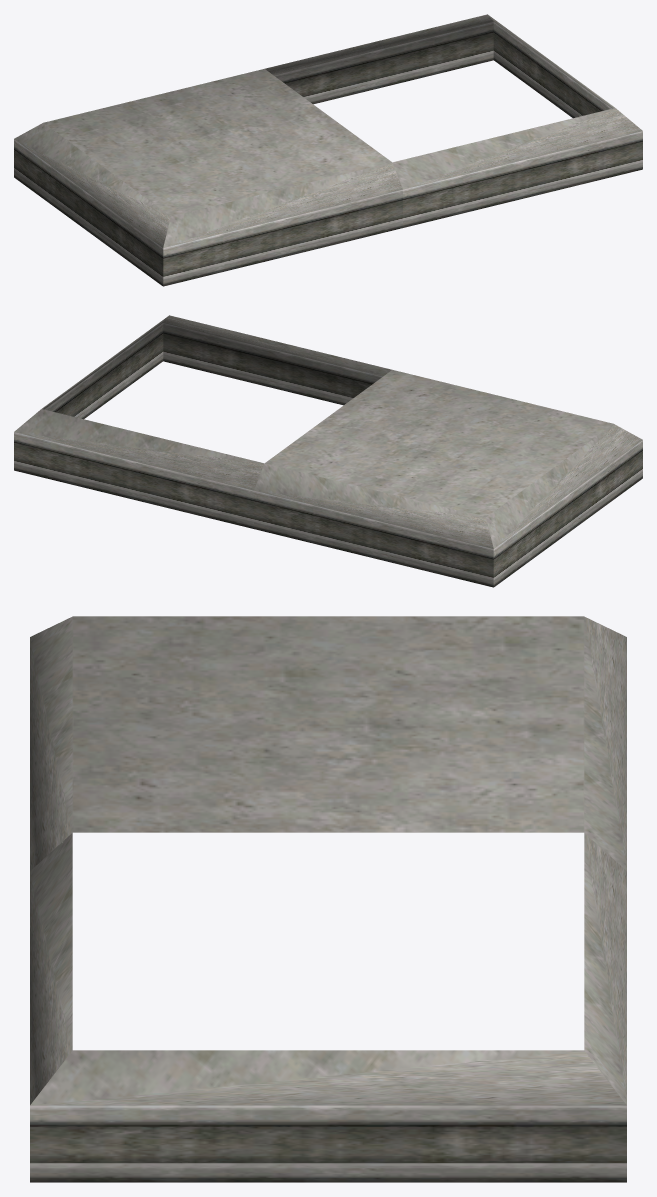
The model's file is DWARF_PALACE_ARKENSTONE_OBLISK_BASE.fbx.
3 renders of one model, top to bottom at view 1: azimuth 30°, elevation 25°; view 2: azimuth 150°, elevation 25°; view 3: azimuth 270°, elevation 25°, orthographic. The views are drawn at different scales.
Parts seen in each view (by area): view 1: DWARF_PALACE_ARKENSTONE_OBLISK_BASE; view 2: DWARF_PALACE_ARKENSTONE_OBLISK_BASE; view 3: DWARF_PALACE_ARKENSTONE_OBLISK_BASE.
Part boxes in pixels (left/top/right/bottom): DWARF_PALACE_ARKENSTONE_OBLISK_BASE: left=14, top=14, right=642, bottom=286; DWARF_PALACE_ARKENSTONE_OBLISK_BASE: left=14, top=315, right=642, bottom=587; DWARF_PALACE_ARKENSTONE_OBLISK_BASE: left=30, top=616, right=626, bottom=1182.
Bounding box in the file's own units: 26000 × 3000 × 14000.
2 materials, 2 textured.
